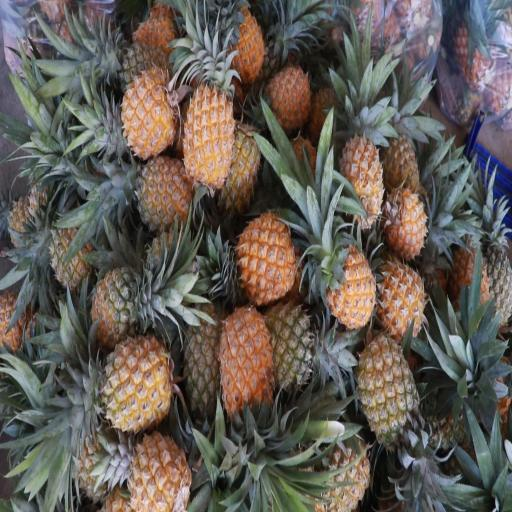------------------------------: (353, 314, 423, 448), (175, 300, 235, 428), (90, 261, 152, 352)
Pineapple - v8 v1: (90, 330, 177, 434), (216, 296, 274, 438), (180, 75, 237, 202), (123, 145, 196, 239), (120, 413, 190, 510), (228, 208, 296, 304), (336, 107, 386, 231), (326, 235, 382, 341), (311, 416, 370, 512), (121, 63, 175, 167), (376, 248, 427, 340), (261, 48, 314, 130), (383, 185, 432, 268), (221, 2, 266, 86)
